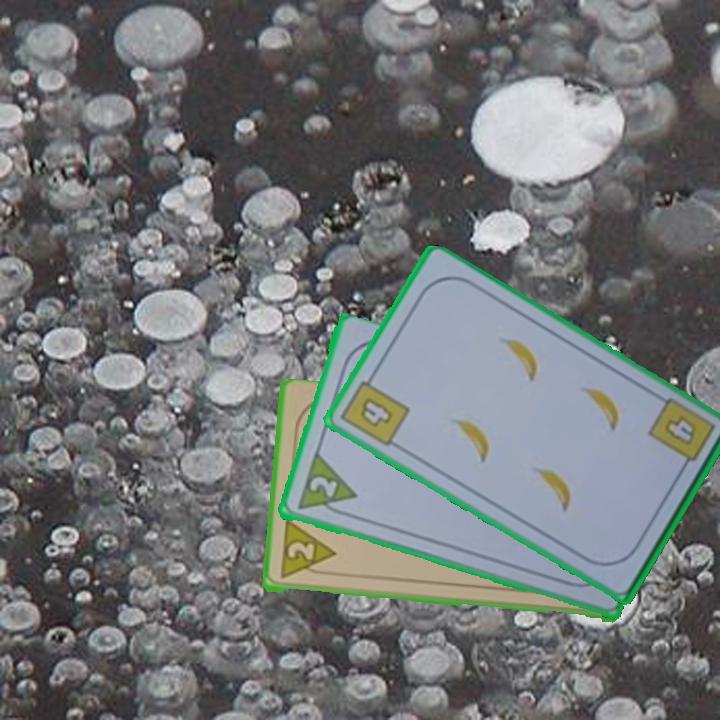2p: (276, 519, 338, 582), (305, 472, 340, 501)
4b: (337, 369, 413, 450), (644, 394, 718, 475)
